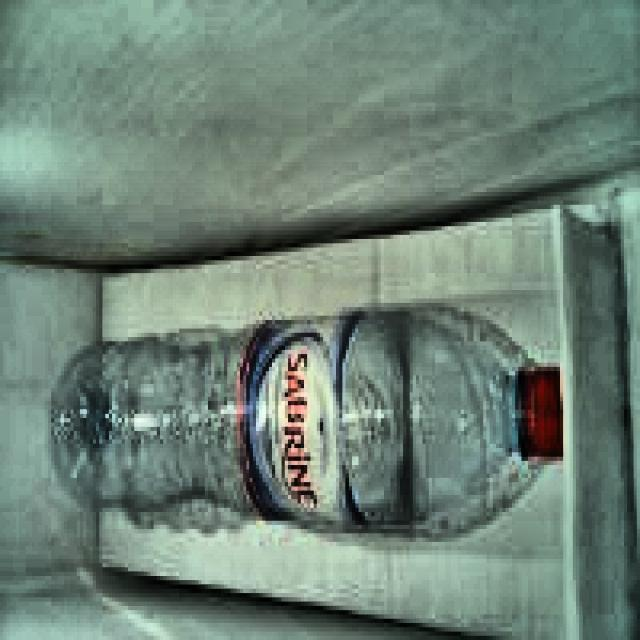plastic bottle: (54, 311, 563, 527)
